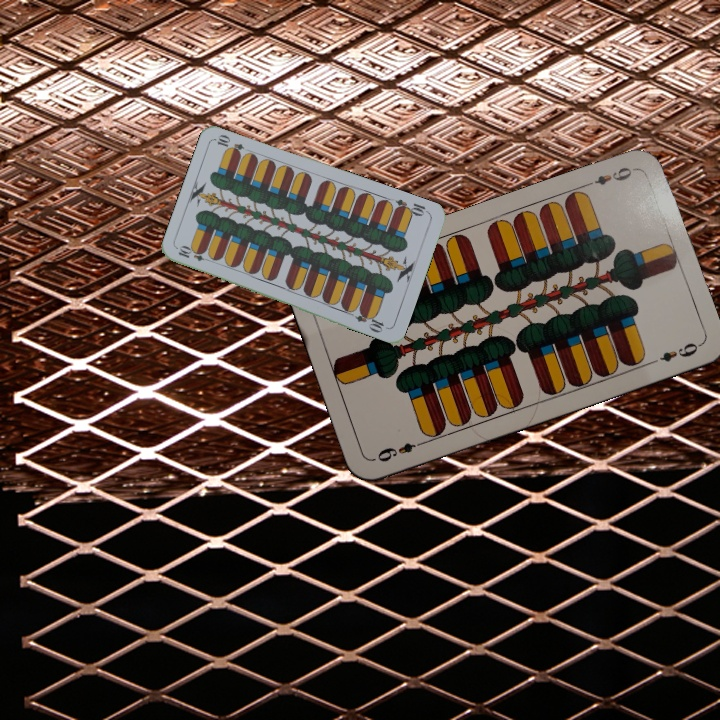E10: (391, 195, 431, 219), (174, 243, 214, 264)
E9: (373, 437, 428, 465), (581, 163, 639, 189)
